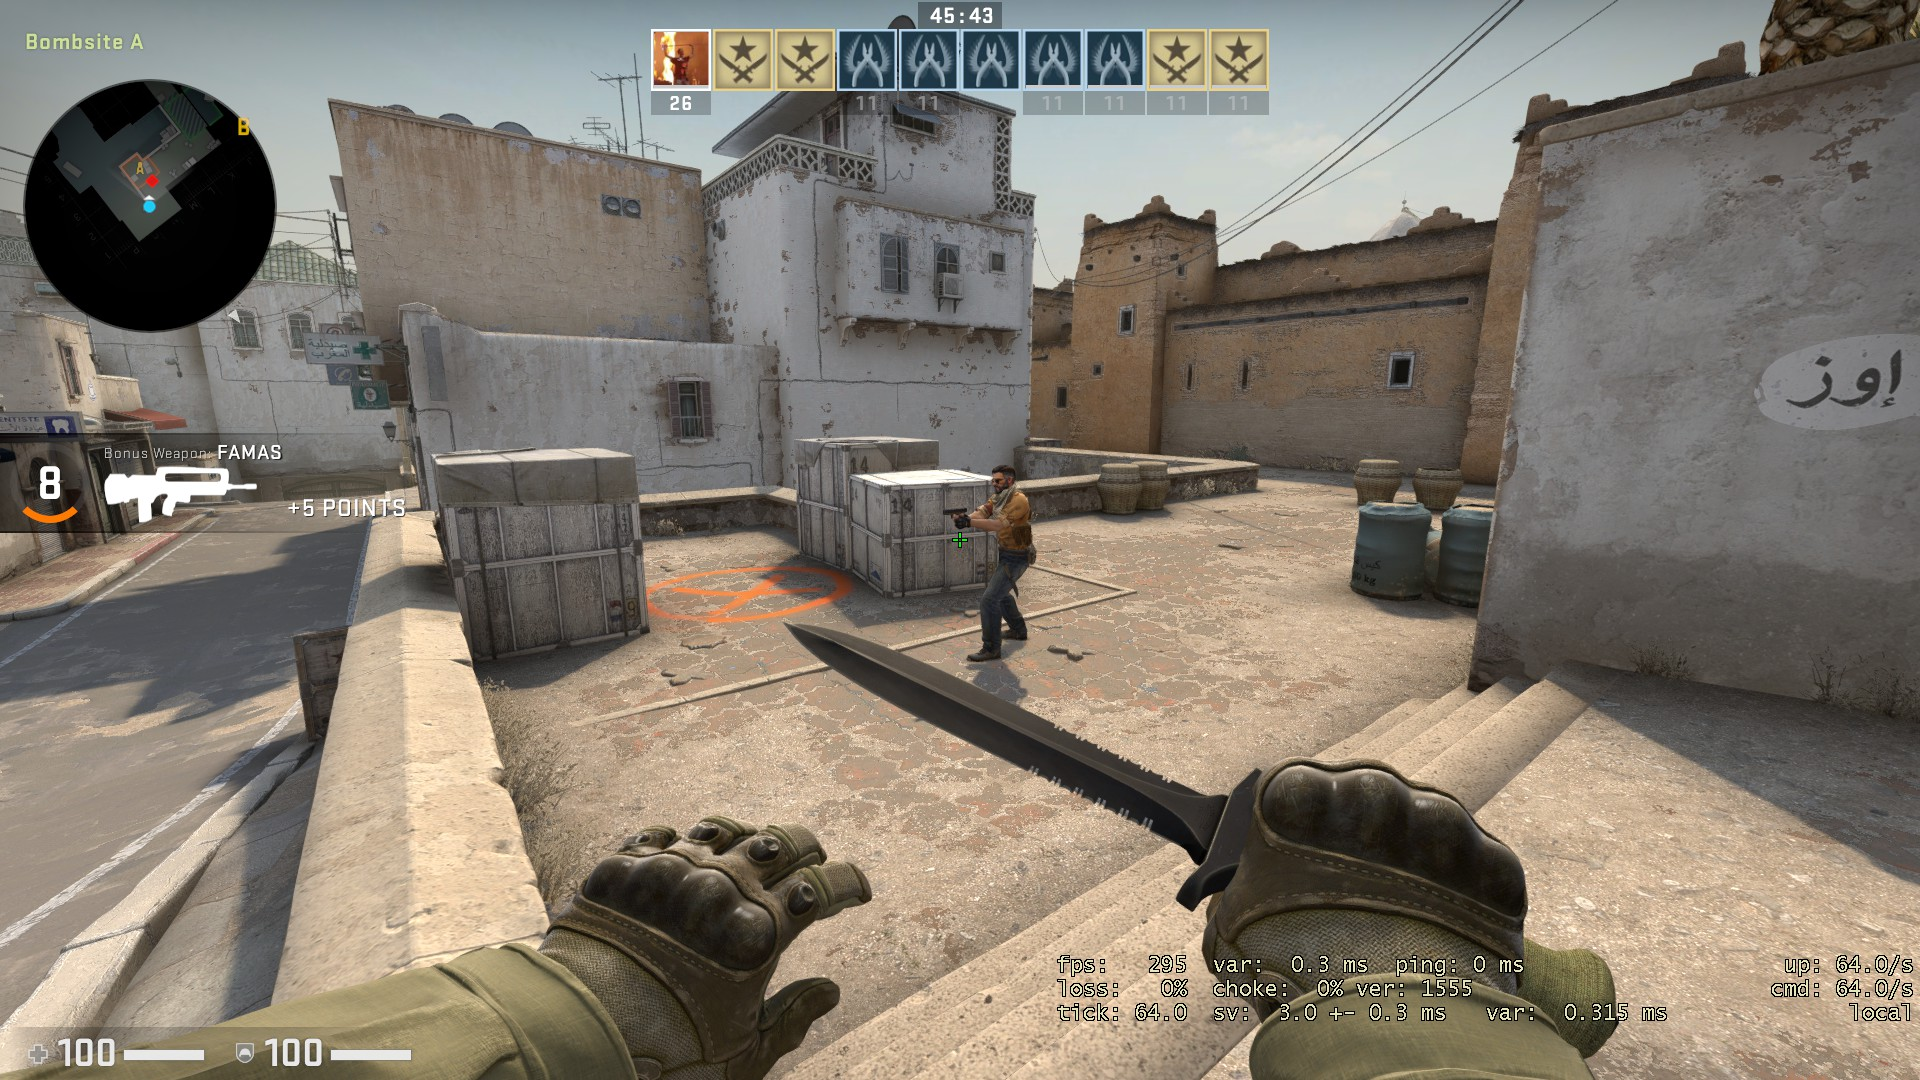player: (936, 460, 1038, 664)
